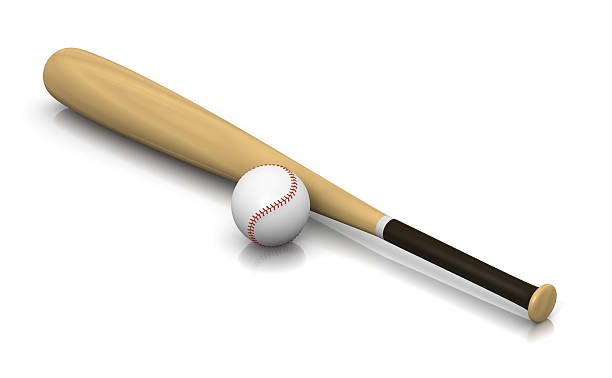bita: (48, 48, 548, 310)
